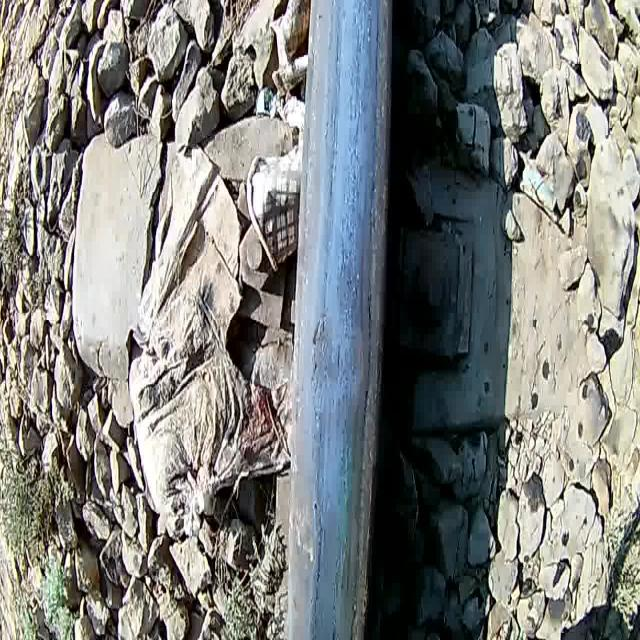Squats: (270, 0, 414, 640)
